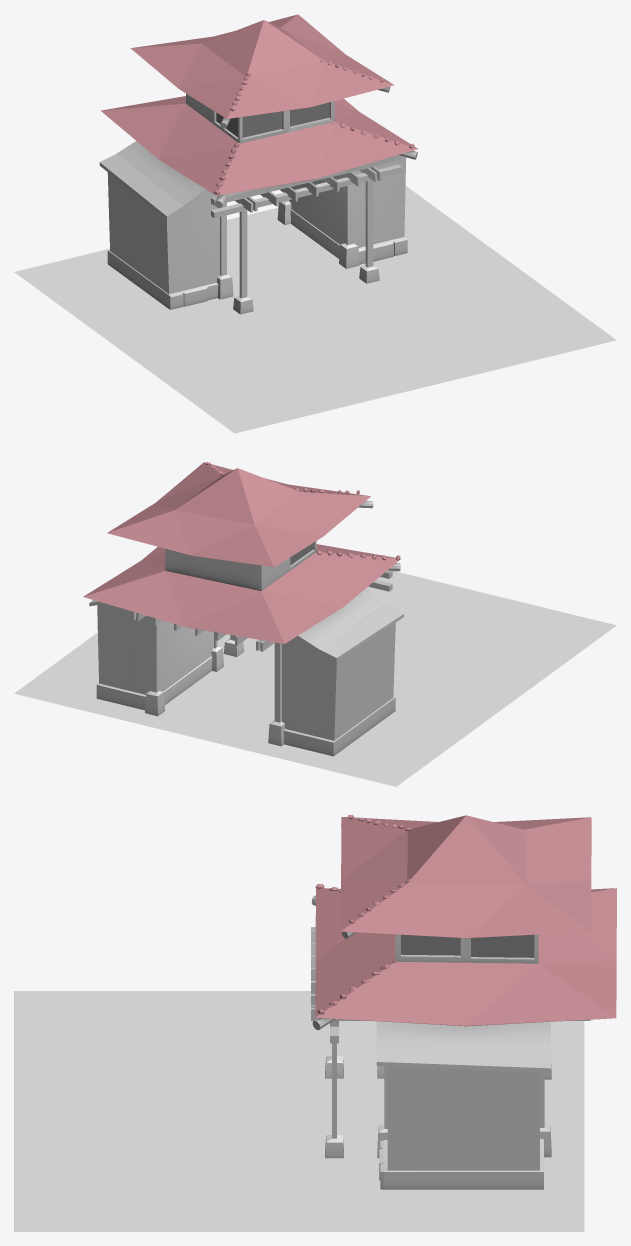
File: Zen-Portal.fbx
The picture shows the model from 3 angles, top to bottom: view 1: azimuth 30°, elevation 25°; view 2: azimuth 150°, elevation 25°; view 3: azimuth 270°, elevation 25°; orthographic projection. The views are drawn at different scales.
Visible parts, largest first — view 1: Plane, Cube.003, Cube.002; view 2: Plane, Cube.002, Cube.003; view 3: Plane, Cube.002, Cube.003.
Part boxes in pixels (<box>): Plane: <box>14,186,616,433</box>; Cube.003: <box>99,86,417,314</box>; Cube.002: <box>101,14,417,195</box>; Plane: <box>14,571,616,786</box>; Cube.002: <box>83,462,400,643</box>; Cube.003: <box>89,501,403,756</box>; Plane: <box>14,991,584,1231</box>; Cube.002: <box>315,815,616,1026</box>; Cube.003: <box>311,825,590,1189</box>.
Size of the model in its own units: 2133 by 1264 by 2256.
Materials: 3 (1 with a texture image).
